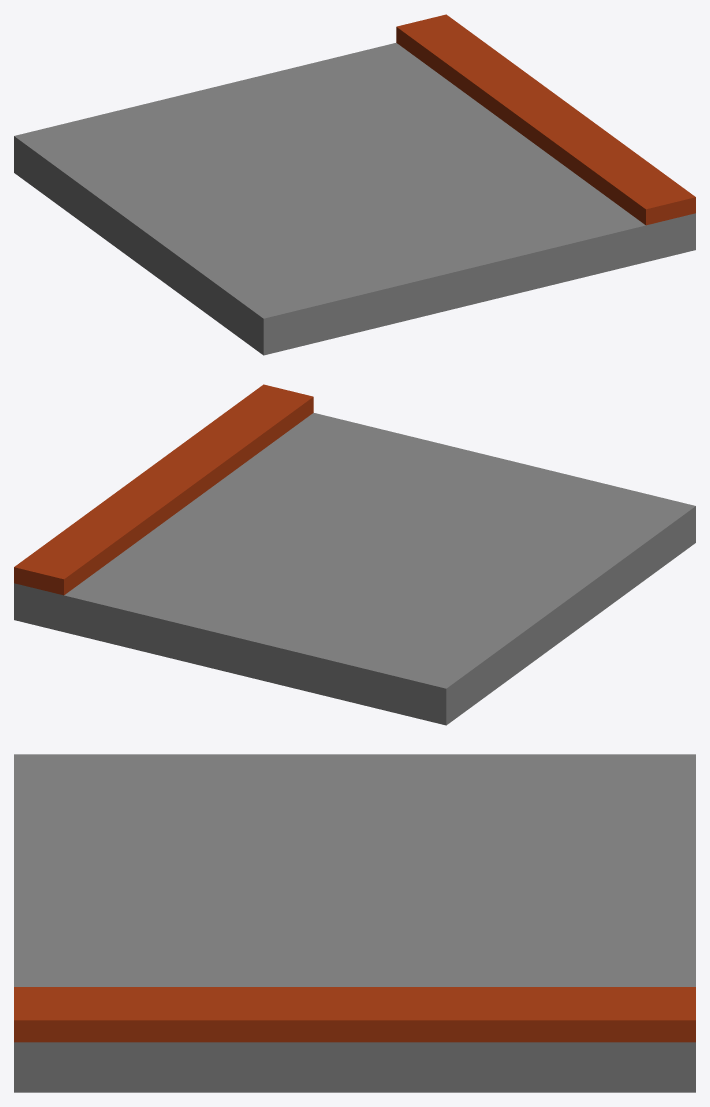
File: Line_Sidewalk.fbx
The picture shows the model from 3 angles, top to bottom: view 1: azimuth 30°, elevation 25°; view 2: azimuth 150°, elevation 25°; view 3: azimuth 270°, elevation 25°; orthographic projection. The views are drawn at different scales.
Parts seen in each view (by area): view 1: Line_Sidewalk; view 2: Line_Sidewalk; view 3: Line_Sidewalk.
Part boxes in pixels (x1,y1,x2,y2): Line_Sidewalk: [14, 14, 695, 355]; Line_Sidewalk: [14, 384, 695, 725]; Line_Sidewalk: [14, 754, 695, 1092].
Bounding box in the file's own units: 130 × 15.14 × 130.
Materials: 1 (1 with a texture image).
